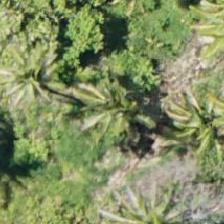coconut_tree: (67, 60, 157, 150), (0, 32, 73, 122), (158, 87, 223, 177)
